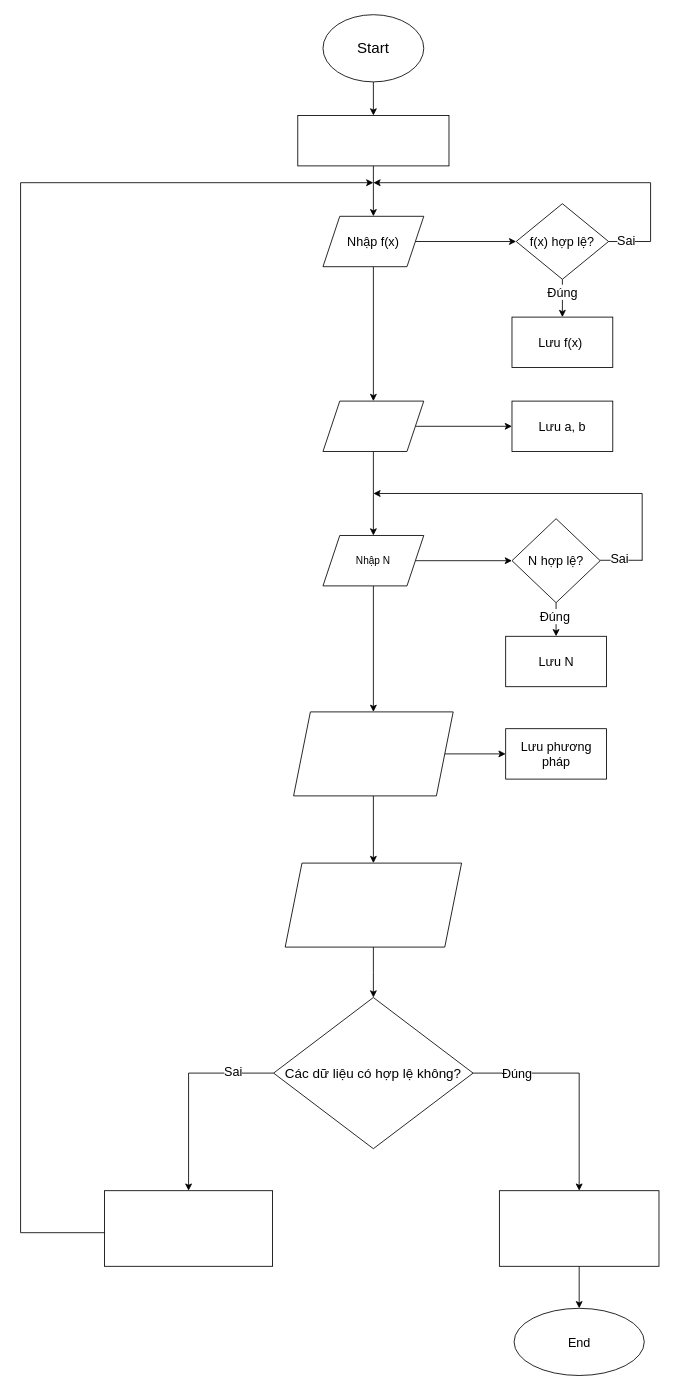
Some shapes in this 674 by 1390 pixel diagram are drawn without their labels. The shapes that lost their labels are listed below. From the top down, each one's centre as x and y in pixels, then its label:
point (373, 140): Tạo object thuộc lớp TichPhan với các thuộc tính mặc định
point (373, 426): Nhập a, b
point (373, 753): Chọn phương pháp tính tích phân
point (373, 904): Nhấn button tính tích phân
point (188, 1228): Yêu cầu người dùng kiểm tra lại các dữ liệu
point (579, 1228): Tính tích phân và vẽ đồ thị
